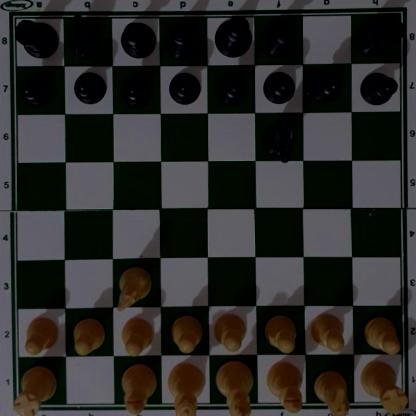black-bishop: (260, 16, 300, 56), (118, 19, 157, 56)
black-king: (213, 17, 254, 58)
black-knight: (262, 117, 295, 162), (68, 12, 101, 56)
black-pawn: (360, 69, 396, 105), (263, 68, 295, 104), (73, 69, 105, 104), (168, 68, 199, 104), (20, 72, 54, 104), (310, 68, 342, 102), (216, 69, 247, 104), (121, 71, 152, 105)
black-queen: (164, 17, 202, 57)
black-rook: (357, 10, 401, 55), (12, 16, 58, 57)
white-bishop: (265, 361, 303, 413), (121, 361, 155, 413)
white-king: (215, 361, 252, 415)
white-knight: (313, 367, 349, 414), (115, 263, 150, 308)
white-pawn: (309, 311, 346, 351), (22, 314, 58, 354), (212, 311, 247, 351), (364, 314, 400, 351), (71, 315, 105, 353), (264, 313, 298, 351), (120, 317, 153, 355), (169, 313, 201, 351)
white-queen: (166, 361, 205, 416)
white-rook: (361, 356, 408, 416), (11, 364, 57, 416)
